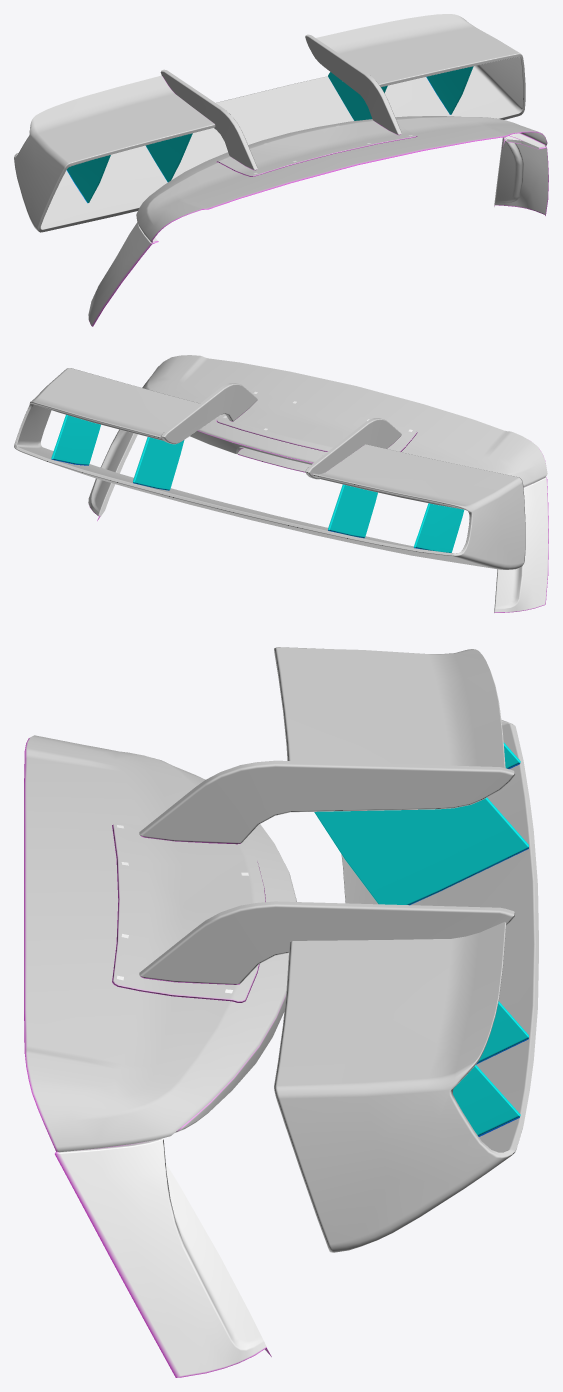
The model's file is Car_Mini_CountrymanJCW_2017_Spoiler_SetB_AltB.fbx.
3 renders of one model, top to bottom at view 1: azimuth 30°, elevation 25°; view 2: azimuth 150°, elevation 25°; view 3: azimuth 270°, elevation 25°, orthographic. The views are drawn at different scales.
Parts seen in each view (by area): view 1: Spoiler 6; view 2: Spoiler 6; view 3: Spoiler 6.
Boxes of the visible parts, box(x1,y1,x2,y2) form: Spoiler 6: box(14, 14, 548, 326); Spoiler 6: box(14, 355, 548, 612); Spoiler 6: box(24, 647, 538, 1377).
Bounding box in the file's own units: 1.42 × 0.4615 × 0.6495.
